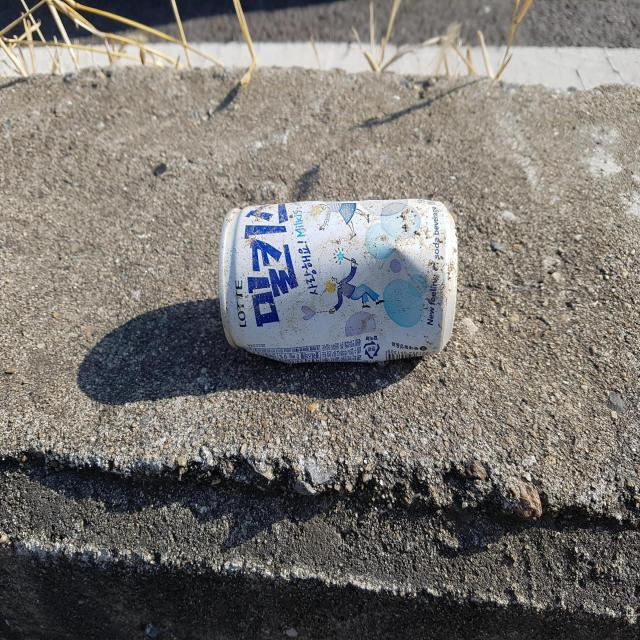can: (218, 198, 458, 363)
